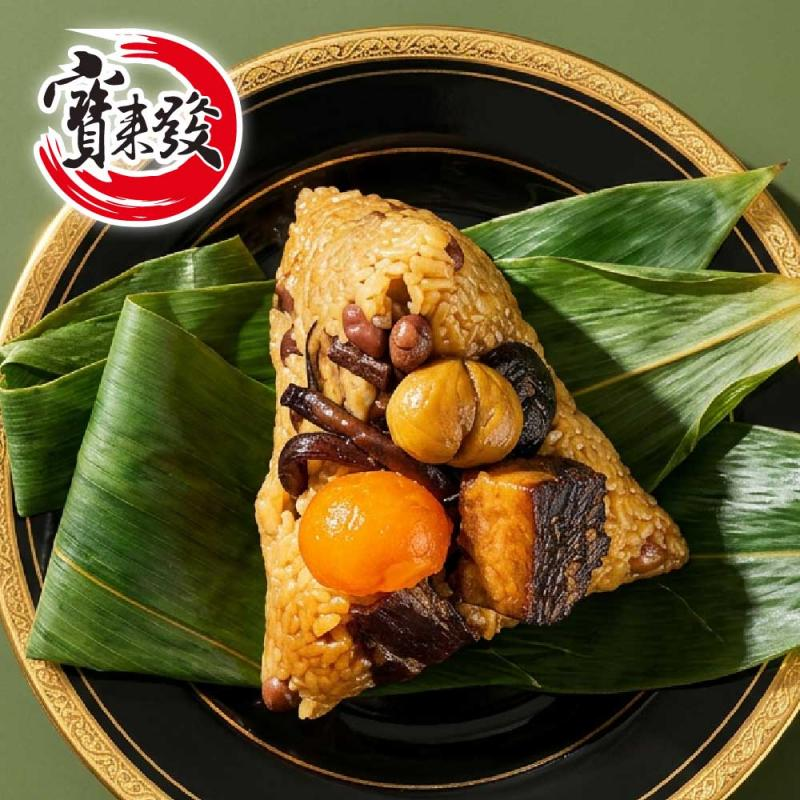zongzi: (255, 187, 687, 717)
